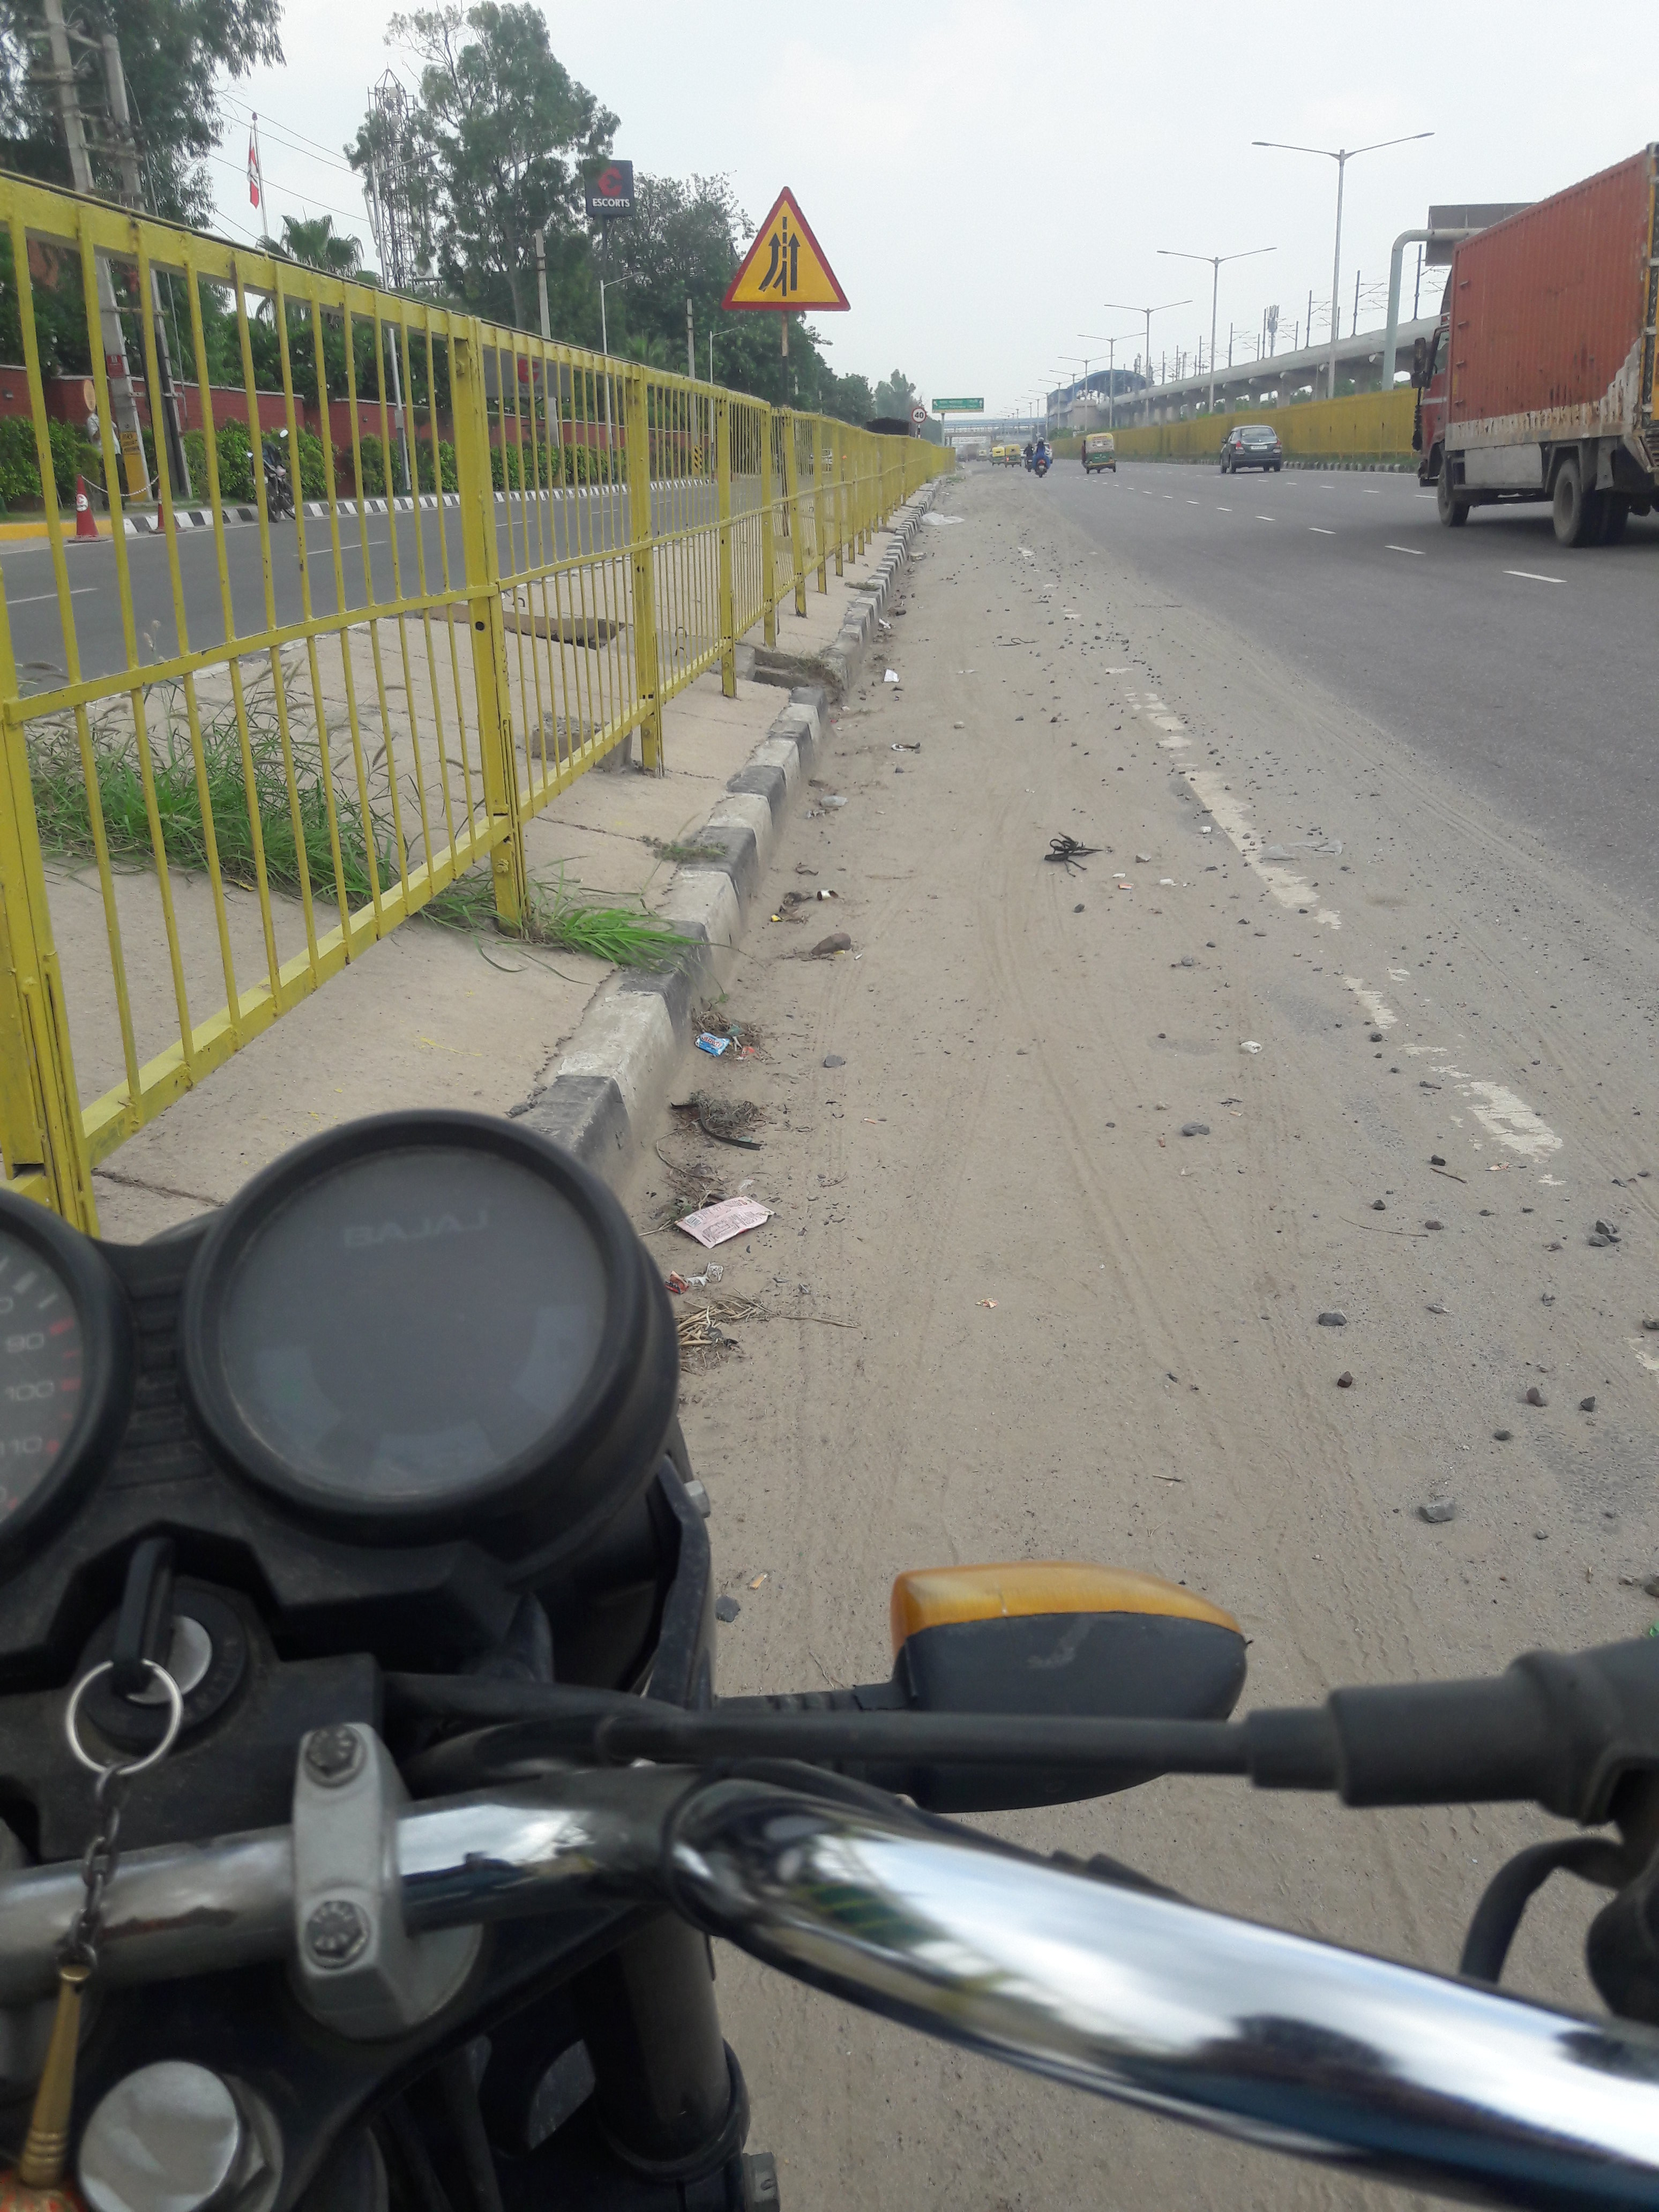traffic_sign: (721, 185, 850, 312), (911, 408, 925, 421)
